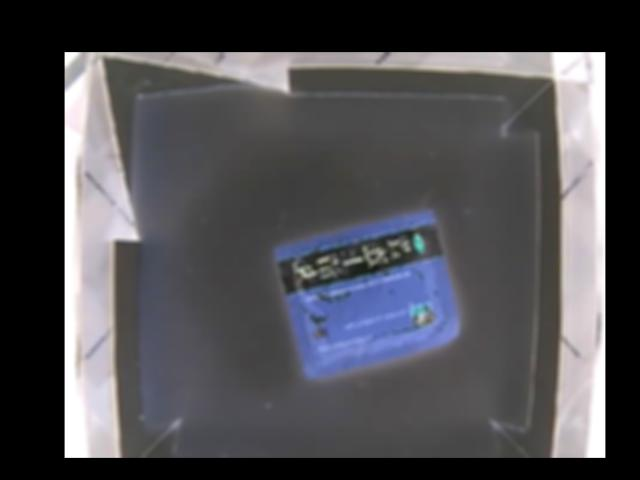Medicine: (277, 210, 459, 377)
